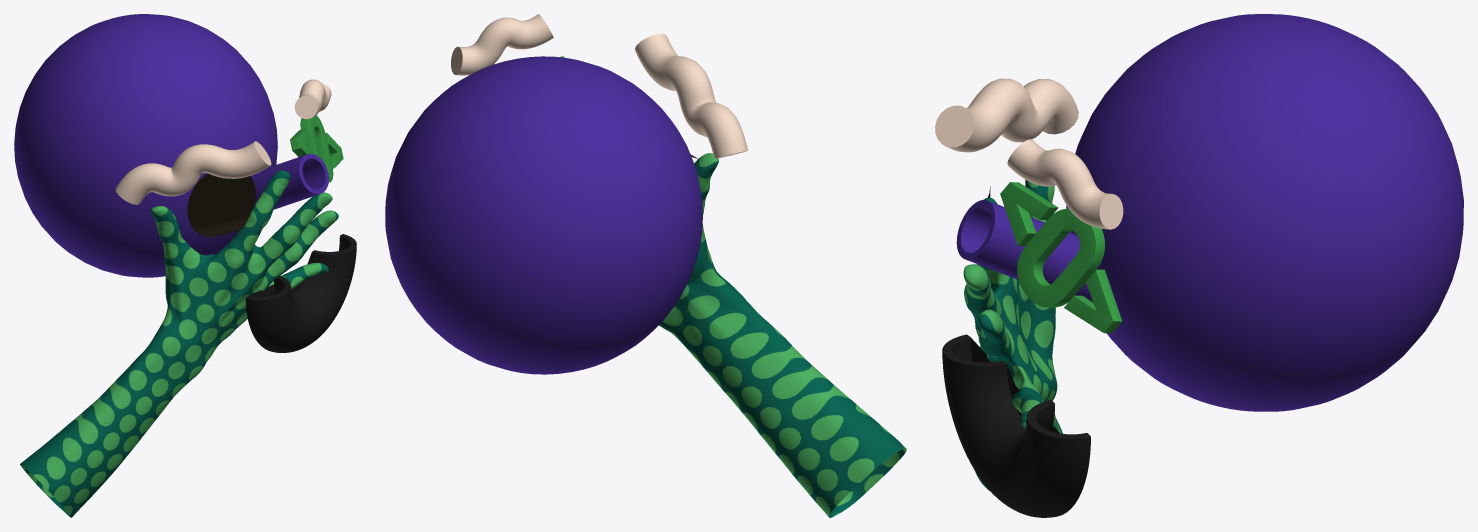
The model's file is Futu_hand_stripped.fbx.
The picture shows the model from 3 angles, left to right: view 1: azimuth 30°, elevation 25°; view 2: azimuth 150°, elevation 25°; view 3: azimuth 270°, elevation 25°; orthographic projection. The views are drawn at different scales.
Visible parts, largest first — view 1: Sphere, ArcHand1, mouth, eyebrow_2, Sticker, Tube_1, text, eyebrow; view 2: Sphere, ArcHand1, eyebrow_2, eyebrow; view 3: Sphere, mouth, ArcHand1, text, eyebrow_2, Tube_1, eyebrow.
Boxes of the visible parts, x1,y1,x2,y2 form: Sphere: [14, 14, 277, 277]; ArcHand1: [20, 170, 338, 517]; mouth: [245, 234, 356, 352]; eyebrow_2: [115, 141, 271, 204]; Sticker: [187, 173, 255, 236]; Tube_1: [250, 153, 328, 209]; text: [290, 115, 343, 182]; eyebrow: [294, 79, 331, 119]; Sphere: [385, 56, 702, 374]; ArcHand1: [659, 153, 906, 517]; eyebrow_2: [635, 33, 747, 158]; eyebrow: [451, 14, 553, 75]; Sphere: [1066, 14, 1463, 411]; mouth: [942, 334, 1090, 517]; ArcHand1: [963, 179, 1062, 491]; text: [1000, 182, 1122, 333]; eyebrow_2: [935, 78, 1078, 152]; Tube_1: [956, 200, 1093, 302]; eyebrow: [1007, 139, 1123, 229].
Bounding box in the file's own units: 585 × 614 × 504.
7 materials, 1 textured.
